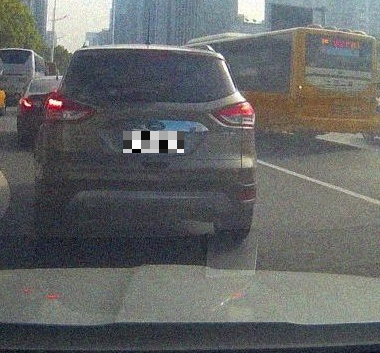L_light: (43, 93, 95, 122)
R_light: (212, 101, 255, 127)
T_light: (134, 50, 164, 57)
day-left: (33, 43, 257, 241)
plate_1: (123, 131, 184, 153)
